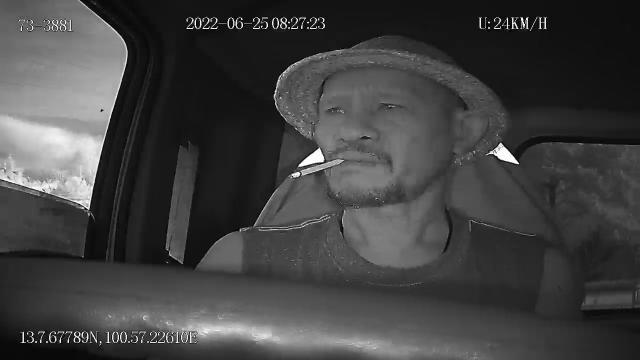SafeDriving: (371, 93, 412, 117), (320, 98, 352, 119)
Smoking: (288, 156, 346, 178)
